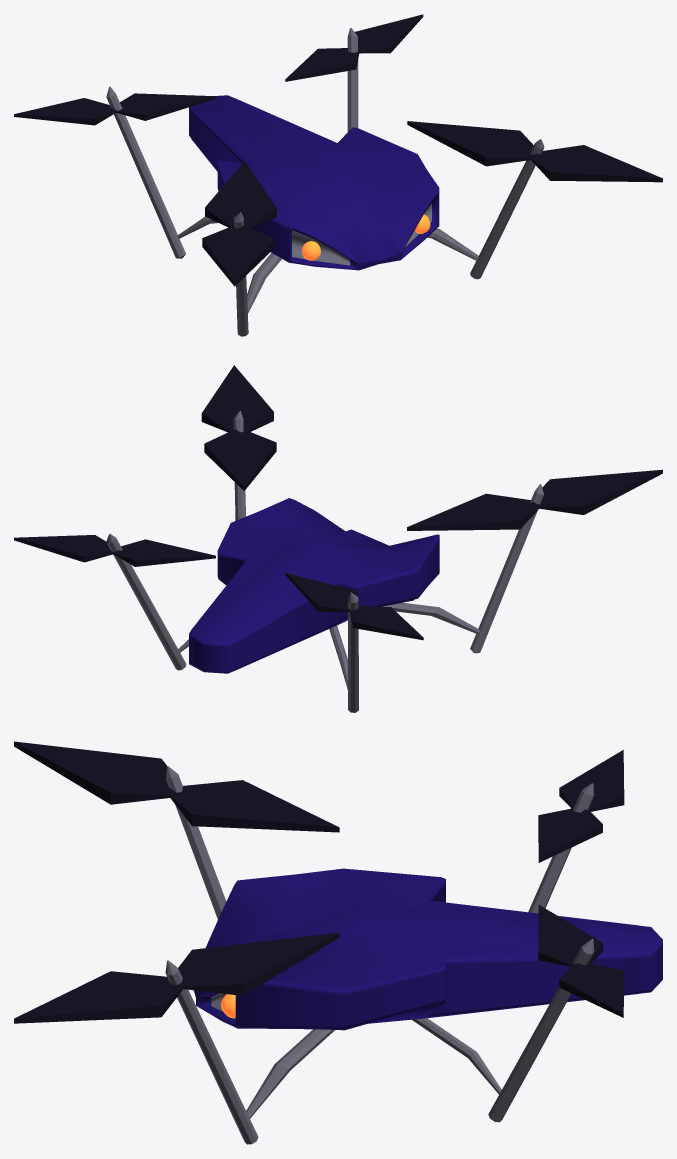
Rendered from Drone_03.fbx.
The picture shows the model from 3 angles, top to bottom: view 1: azimuth 30°, elevation 25°; view 2: azimuth 150°, elevation 25°; view 3: azimuth 270°, elevation 25°; orthographic projection. The views are drawn at different scales.
Visible parts, largest first — view 1: Body, Helice_F_L, Helice_F_R, Helice_BR, Helice__B_L, Leg_02_B_R, Leg_01_FL, Leg_02_B-L, Leg_02_F_R, Front_Leg_R, Front_Leg_R.001; view 2: Body, Helice_F_R, Helice_F_L, Helice__B_L, Helice_BR, Leg_02_F_R, Leg_02_B-L, Leg_02_B_R, Front_Leg_R, Leg_01_FL; view 3: Body, Helice_F_L, Helice_F_R, Helice__B_L, Helice_BR, Leg_01_FL, Leg_02_B-L, Leg_02_F_R, Front_Leg_R.001, Leg_02_B_R, Back:Leg_R.001.
Boxes of the visible parts, x1,y1,x2,y2 form: Body: [189, 95, 439, 270]; Helice_F_L: [407, 121, 662, 182]; Helice_F_R: [202, 161, 276, 286]; Helice_BR: [14, 93, 215, 125]; Helice__B_L: [285, 14, 423, 81]; Leg_02_B_R: [106, 86, 185, 258]; Leg_01_FL: [470, 139, 544, 279]; Leg_02_B-L: [347, 28, 358, 131]; Leg_02_F_R: [234, 212, 248, 336]; Front_Leg_R: [238, 253, 281, 322]; Front_Leg_R.001: [427, 228, 478, 260]; Body: [189, 498, 439, 673]; Helice_F_R: [407, 469, 662, 530]; Helice_F_L: [201, 365, 276, 490]; Helice__B_L: [14, 535, 215, 566]; Helice_BR: [285, 573, 423, 640]; Leg_02_F_R: [470, 484, 544, 653]; Leg_02_B-L: [106, 534, 186, 670]; Leg_02_B_R: [348, 592, 358, 712]; Front_Leg_R: [381, 602, 479, 633]; Leg_01_FL: [233, 411, 245, 520]; Body: [194, 868, 662, 1030]; Helice_F_L: [14, 932, 339, 1023]; Helice_F_R: [14, 741, 339, 832]; Helice__B_L: [538, 905, 624, 1017]; Helice_BR: [538, 750, 624, 862]; Leg_01_FL: [165, 960, 258, 1144]; Leg_02_B-L: [488, 939, 594, 1122]; Leg_02_F_R: [165, 766, 226, 919]; Front_Leg_R.001: [240, 1029, 334, 1125]; Leg_02_B_R: [528, 783, 594, 913]; Back:Leg_R.001: [412, 1018, 501, 1094].
Size of the model in its own units: 576 by 200 by 570.
